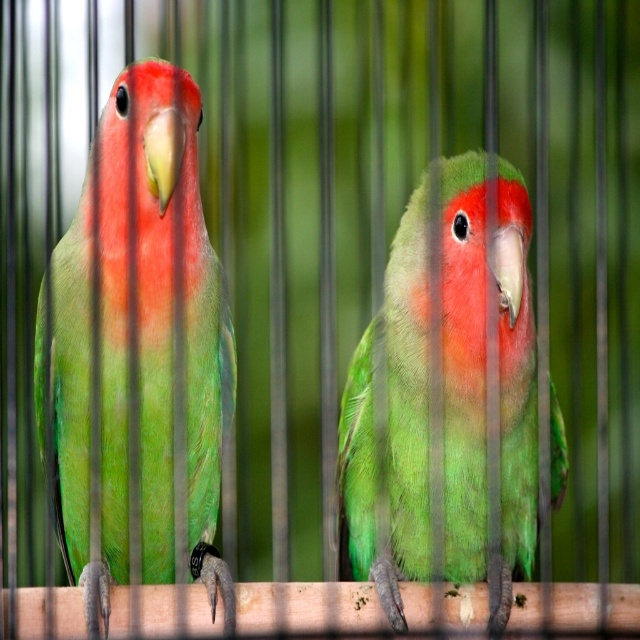Parrot: (36, 55, 240, 633), (334, 139, 571, 635)
